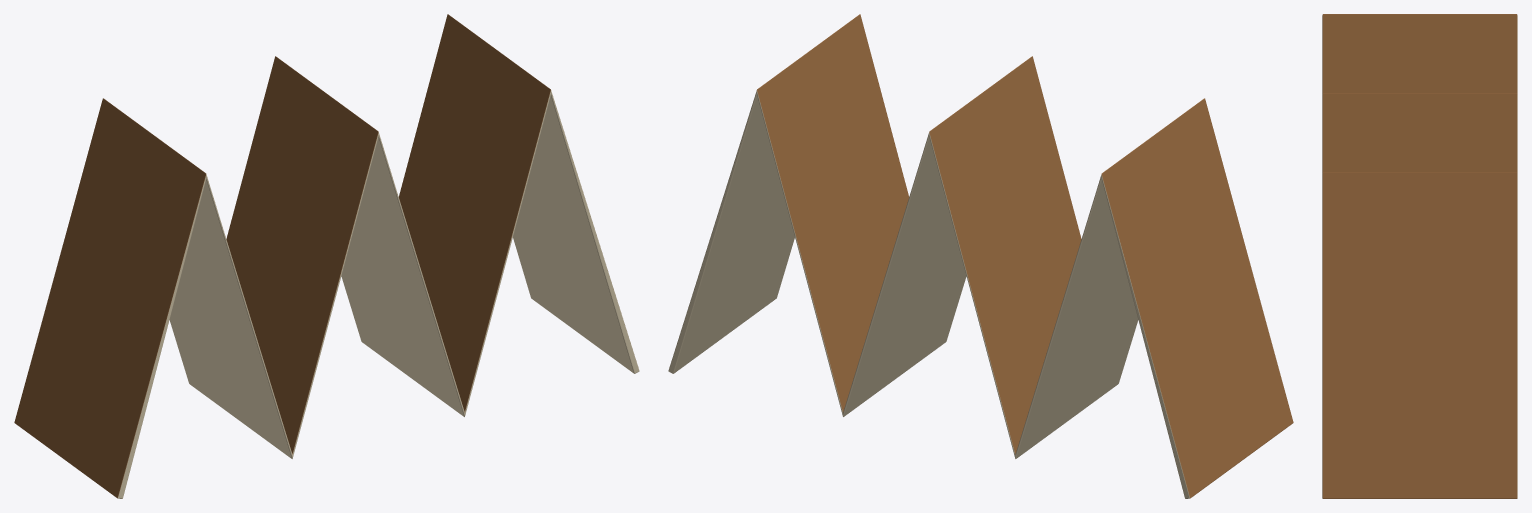
The model's file is achievement-two-week-titan.glb.
3 renders of one model, left to right at view 1: azimuth 30°, elevation 25°; view 2: azimuth 150°, elevation 25°; view 3: azimuth 270°, elevation 25°, orthographic. The views are drawn at different scales.
Visible parts, largest first — view 1: achievement-two-week-titan; view 2: achievement-two-week-titan; view 3: achievement-two-week-titan.
Part boxes in pixels (<box>): achievement-two-week-titan: <box>14,14,639,498</box>; achievement-two-week-titan: <box>668,14,1293,498</box>; achievement-two-week-titan: <box>1322,14,1517,498</box>.
Size of the model in its own units: 1.92 by 1.08 by 0.66.
